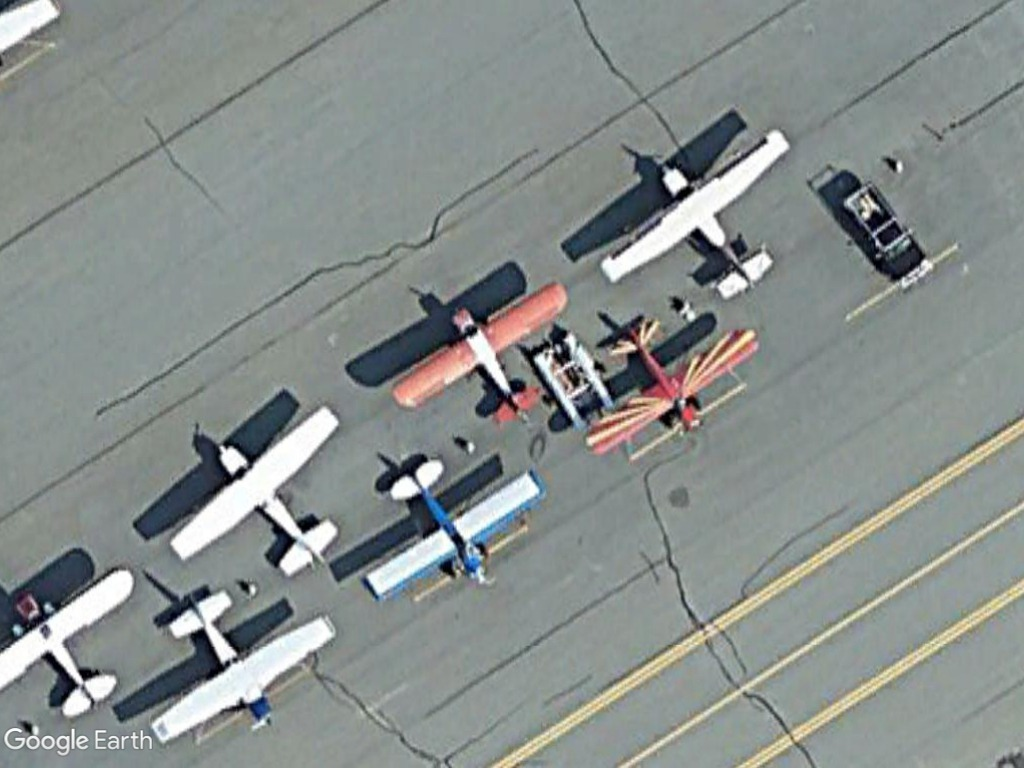trainer: (593, 121, 794, 307), (166, 394, 344, 579), (145, 585, 339, 751), (390, 271, 581, 433), (577, 317, 765, 460)
